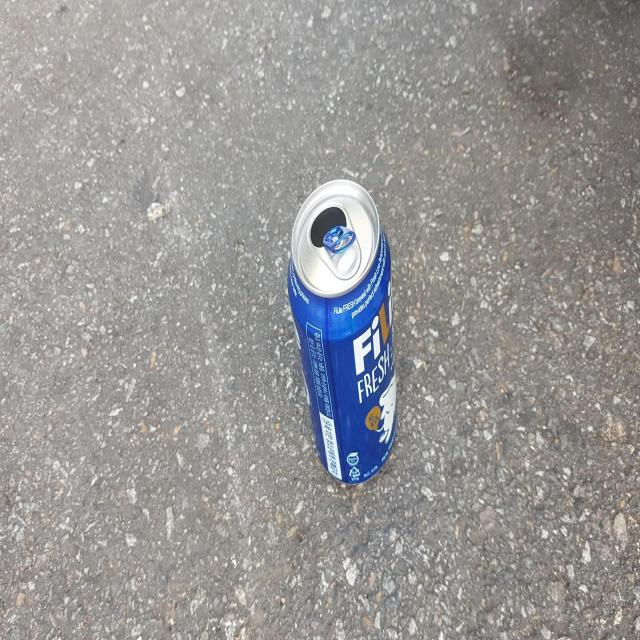can: (288, 178, 397, 483)
